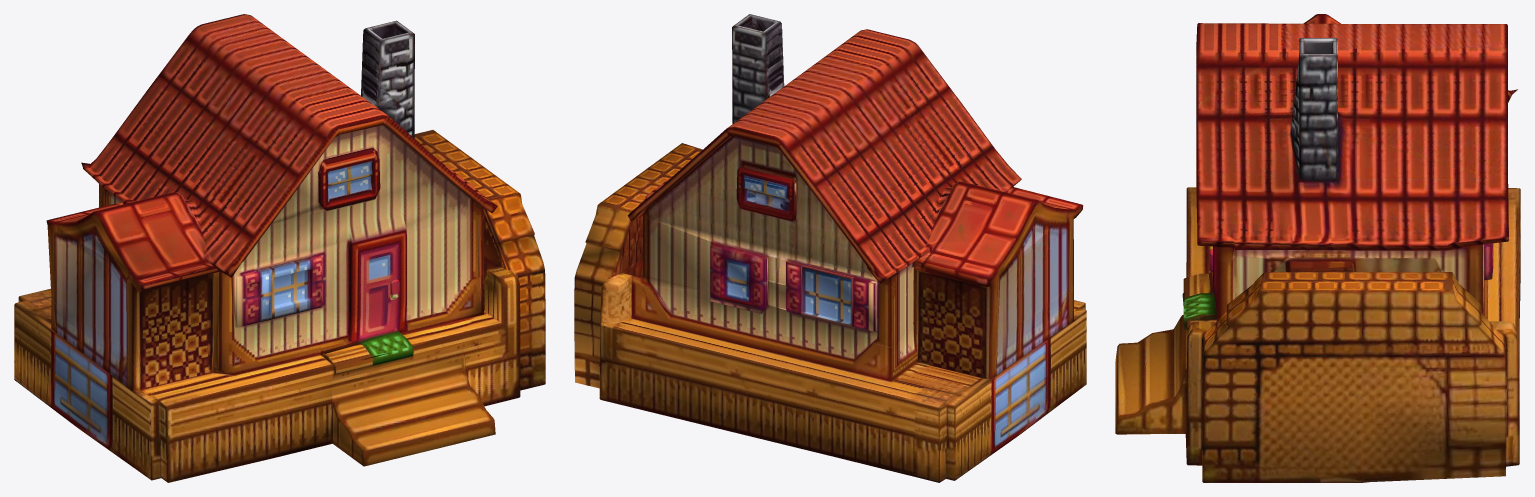
File: farmhouse.glb
The picture shows the model from 3 angles, left to right: view 1: azimuth 30°, elevation 25°; view 2: azimuth 150°, elevation 25°; view 3: azimuth 270°, elevation 25°; orthographic projection. The views are drawn at different scales.
Bounding box in the file's own units: 1.91 × 1.56 × 1.51.
Materials: 1 (1 with a texture image).
